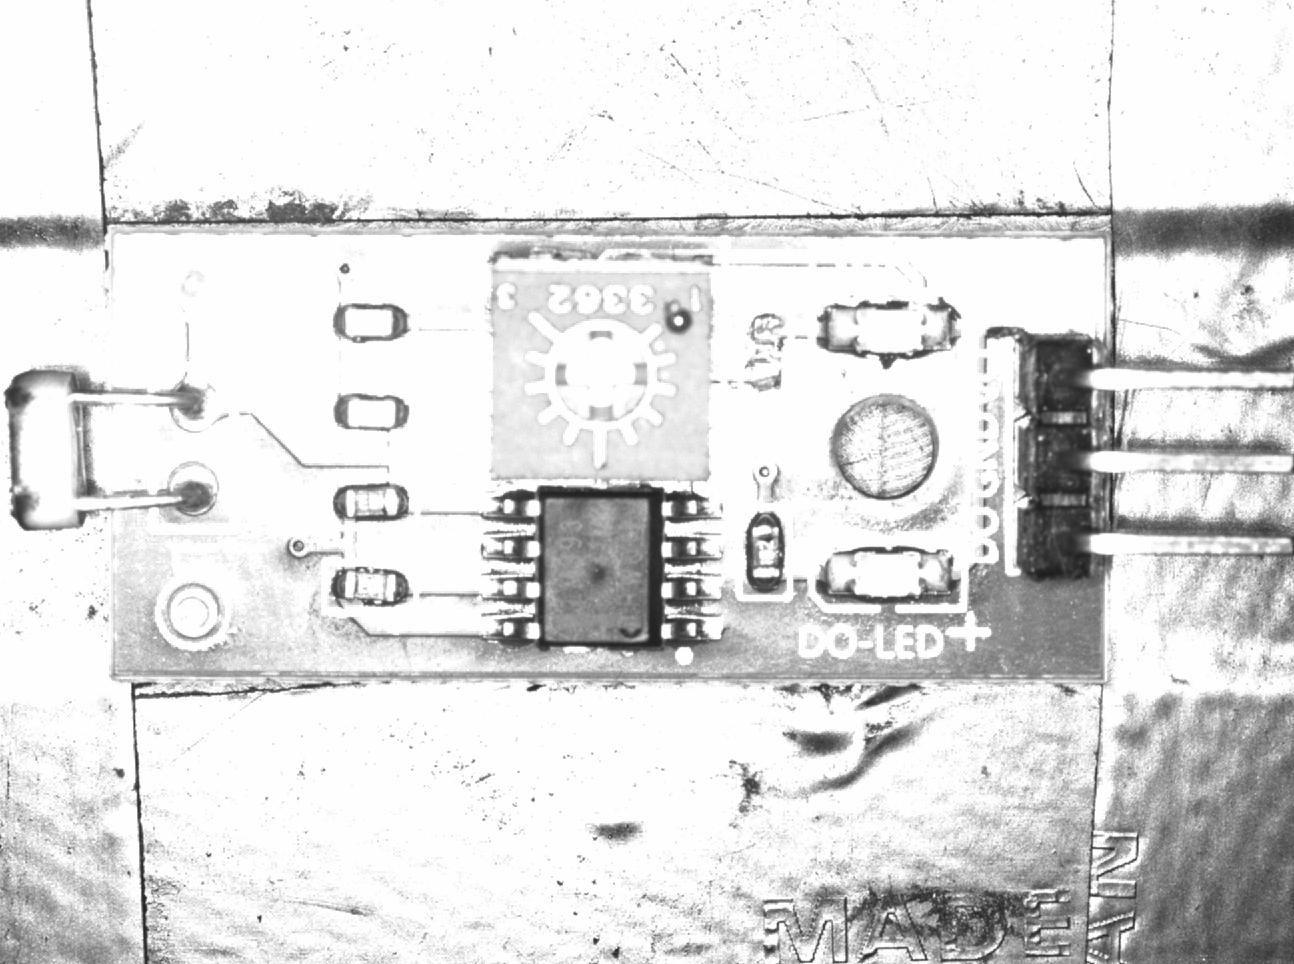miss: (736, 305, 791, 404)
ok: (734, 504, 793, 604), (319, 559, 415, 619), (328, 291, 416, 348), (325, 475, 416, 529), (328, 388, 414, 438)
